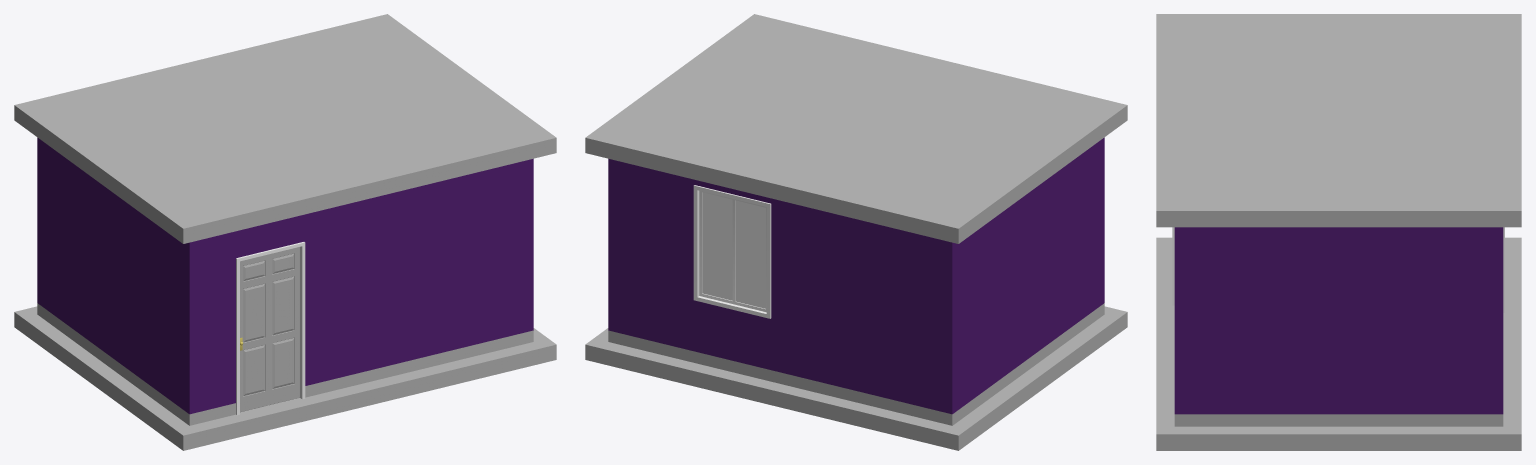
File: FloorPlan301_physics.fbx
The picture shows the model from 3 angles, left to right: view 1: azimuth 30°, elevation 25°; view 2: azimuth 150°, elevation 25°; view 3: azimuth 270°, elevation 25°; orthographic projection. The views are drawn at different scales.
Parts seen in each view (by area): view 1: FP301:StandardWallSize, FP301:Ceiling, FP301:Floor, FP301:StandardDoor1, FP301:StandardDoorFrame1; view 2: FP301:StandardWallSize, FP301:Ceiling, FP301:Floor, FP301:StandardWindowPane3, FP301:StandardWindow3; view 3: FP301:Ceiling, FP301:StandardWallSize, FP301:Floor.
Boxes of the visible parts, x1,y1,x2,y2 form: FP301:StandardWallSize: [37, 137, 533, 425]; FP301:Ceiling: [14, 14, 556, 243]; FP301:Floor: [14, 306, 556, 450]; FP301:StandardDoor1: [240, 247, 299, 412]; FP301:StandardDoorFrame1: [236, 242, 305, 415]; FP301:StandardWallSize: [608, 137, 1104, 425]; FP301:Ceiling: [585, 14, 1127, 243]; FP301:Floor: [585, 306, 1127, 450]; FP301:StandardWindowPane3: [702, 192, 765, 308]; FP301:StandardWindow3: [693, 185, 771, 318]; FP301:Ceiling: [1156, 14, 1521, 227]; FP301:StandardWallSize: [1174, 227, 1503, 426]; FP301:Floor: [1156, 237, 1521, 450].
Bounding box in the file's own units: 510 × 290 × 400.
